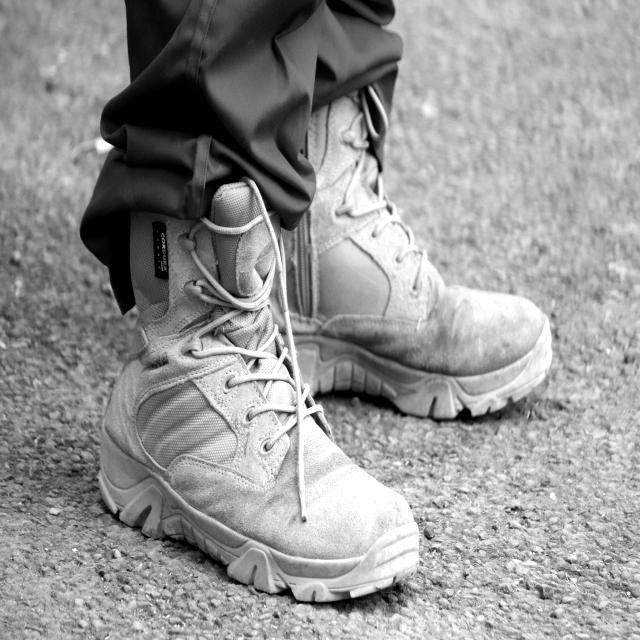No-Boots: (91, 217, 424, 603), (258, 89, 563, 418)
